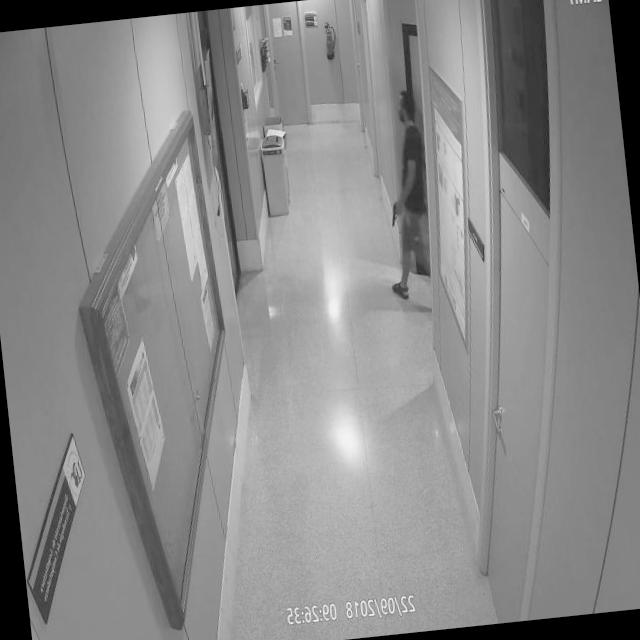gun: (386, 194, 406, 234)
person with a gun: (372, 88, 442, 314)
